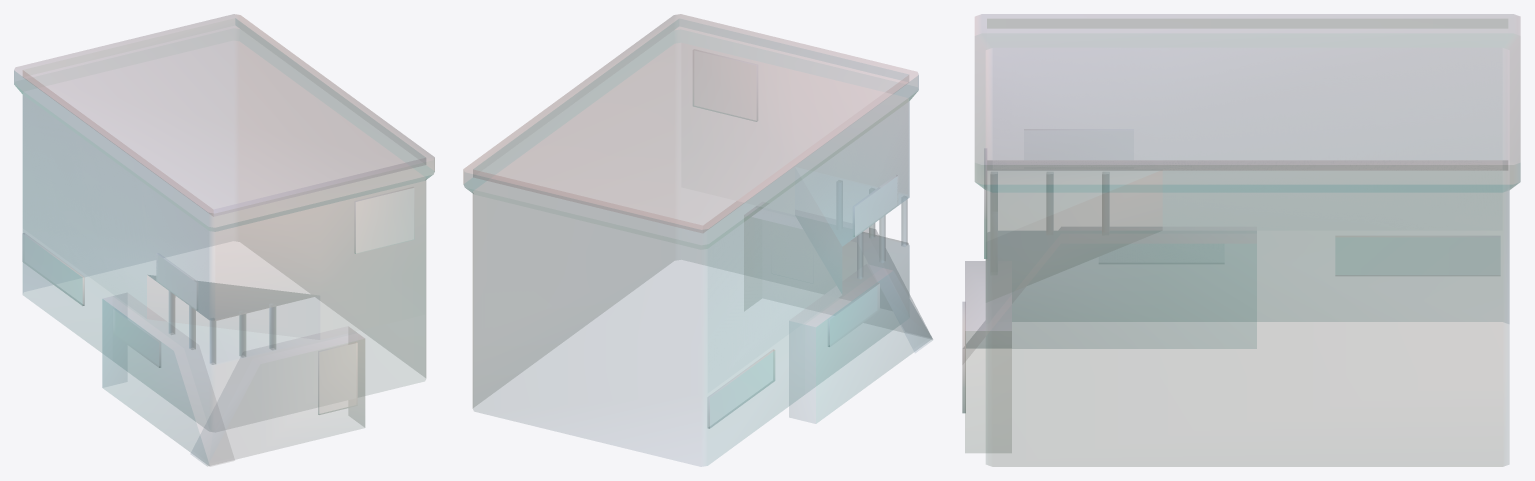
Rendered from CEN_65F9.preview.glb.
3 views of the same model, side by side, from view 1: azimuth 30°, elevation 25°; view 2: azimuth 150°, elevation 25°; view 3: azimuth 270°, elevation 25° (orthographic). The views are drawn at different scales.
Visible parts, largest first — view 1: obj_1670, obj_1010, obj_1b20, obj_9e0, obj_5d0, obj_3080, obj_2890, obj_2340, obj_2c90, obj_11a0, obj_120, obj_2140; view 2: obj_1670, obj_1010, obj_1b20, obj_5d0, obj_9e0, obj_19d0, obj_3080, obj_2890, obj_2340, obj_2c90, obj_11a0, obj_120 (+1 smaller); view 3: obj_1670, obj_1010, obj_1b20, obj_5d0, obj_9e0, obj_11a0, obj_2340, obj_2140, obj_2c90.
Boxes of the visible parts, left/top/right/bottom form: obj_1670: left=23, top=41, right=426, bottom=339; obj_1010: left=14, top=14, right=434, bottom=431; obj_1b20: left=31, top=26, right=417, bottom=209; obj_9e0: left=102, top=293, right=365, bottom=465; obj_5d0: left=14, top=14, right=434, bottom=231; obj_3080: left=23, top=188, right=413, bottom=414; obj_2890: left=113, top=187, right=414, bottom=367; obj_2340: left=174, top=345, right=259, bottom=466; obj_2c90: left=22, top=233, right=357, bottom=414; obj_11a0: left=147, top=275, right=319, bottom=339; obj_120: left=148, top=319, right=318, bottom=365; obj_2140: left=168, top=291, right=276, bottom=364; obj_1670: left=472, top=43, right=909, bottom=394; obj_1010: left=464, top=14, right=918, bottom=466; obj_1b20: left=482, top=27, right=900, bottom=225; obj_5d0: left=463, top=14, right=918, bottom=249; obj_9e0: left=744, top=206, right=932, bottom=423; obj_19d0: left=764, top=102, right=908, bottom=214; obj_3080: left=710, top=176, right=897, bottom=427; obj_2890: left=693, top=50, right=897, bottom=346; obj_2340: left=863, top=230, right=932, bottom=352; obj_2c90: left=708, top=349, right=774, bottom=428; obj_11a0: left=795, top=168, right=841, bottom=292; obj_120: left=842, top=232, right=908, bottom=294; obj_1670: left=986, top=48, right=1509, bottom=375; obj_1010: left=975, top=14, right=1520, bottom=466; obj_1b20: left=987, top=29, right=1507, bottom=160; obj_5d0: left=974, top=14, right=1520, bottom=192; obj_9e0: left=965, top=227, right=1256, bottom=452; obj_11a0: left=986, top=171, right=1161, bottom=301; obj_2340: left=965, top=261, right=1024, bottom=359; obj_2140: left=990, top=172, right=1109, bottom=272; obj_2c90: left=962, top=236, right=1499, bottom=413.
Bounding box in the file's own units: 68.83 × 69.68 × 104.
